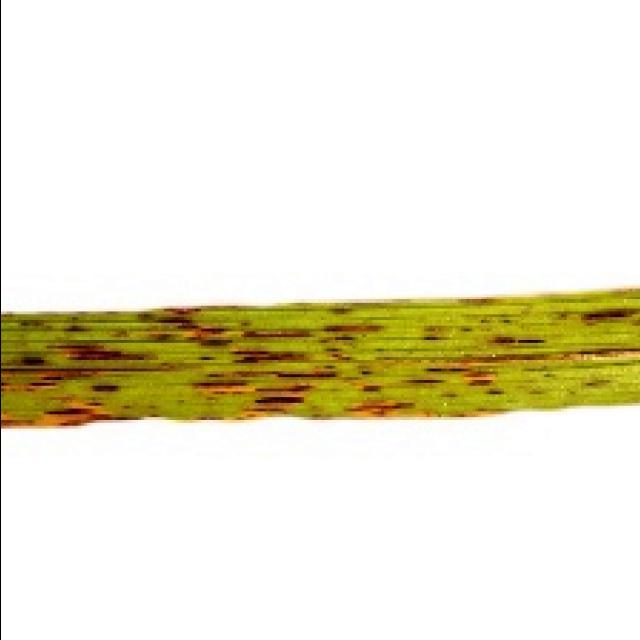Unhealthy: (0, 367, 176, 393), (0, 404, 142, 431), (446, 347, 640, 366), (156, 308, 232, 347), (58, 341, 157, 362), (203, 368, 339, 380), (343, 397, 415, 418), (229, 349, 309, 364), (579, 305, 640, 323), (240, 330, 311, 338), (489, 335, 545, 345), (253, 384, 313, 393), (321, 325, 388, 333), (253, 396, 305, 405), (463, 372, 496, 386), (191, 382, 245, 388), (421, 367, 472, 373), (581, 379, 606, 391), (64, 321, 88, 333), (20, 355, 45, 365), (90, 385, 119, 393), (401, 380, 446, 385), (362, 384, 383, 393), (149, 333, 170, 342), (242, 408, 284, 412), (457, 324, 470, 335), (489, 389, 504, 396), (327, 337, 353, 341), (422, 336, 439, 342), (359, 370, 373, 375), (141, 313, 152, 319), (197, 357, 213, 361), (87, 403, 103, 406)
